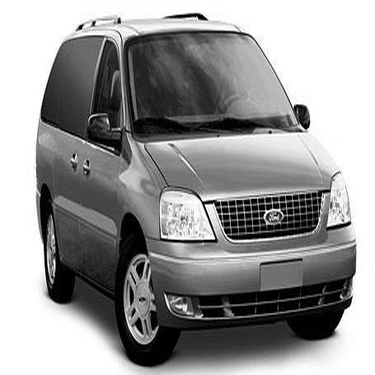car: (19, 1, 359, 368)
